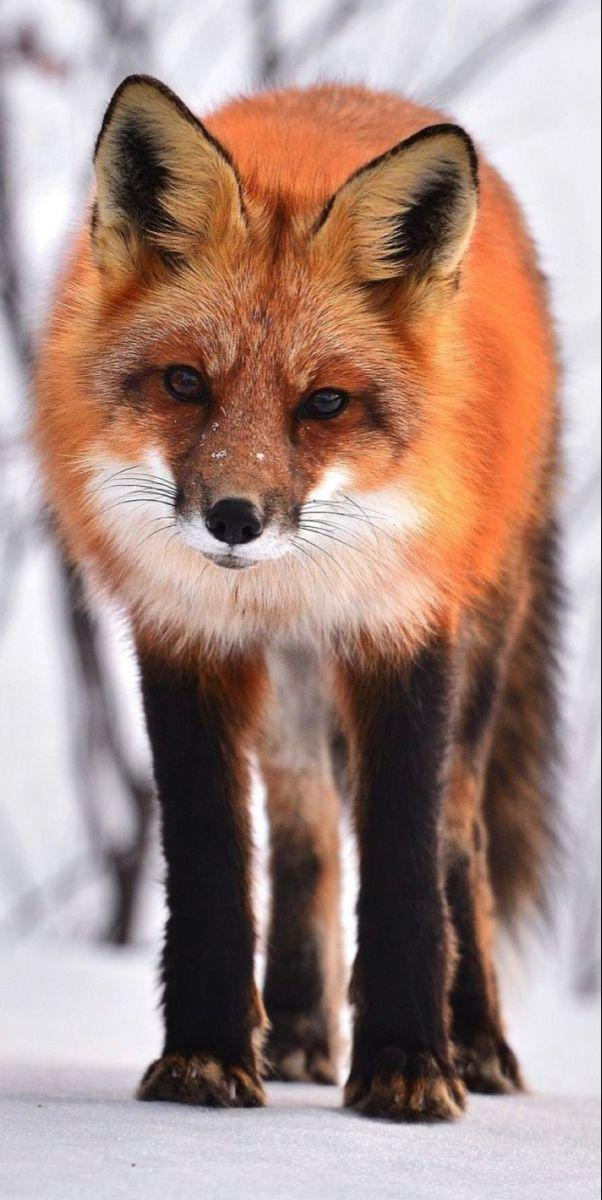fox: (40, 67, 588, 1114)
